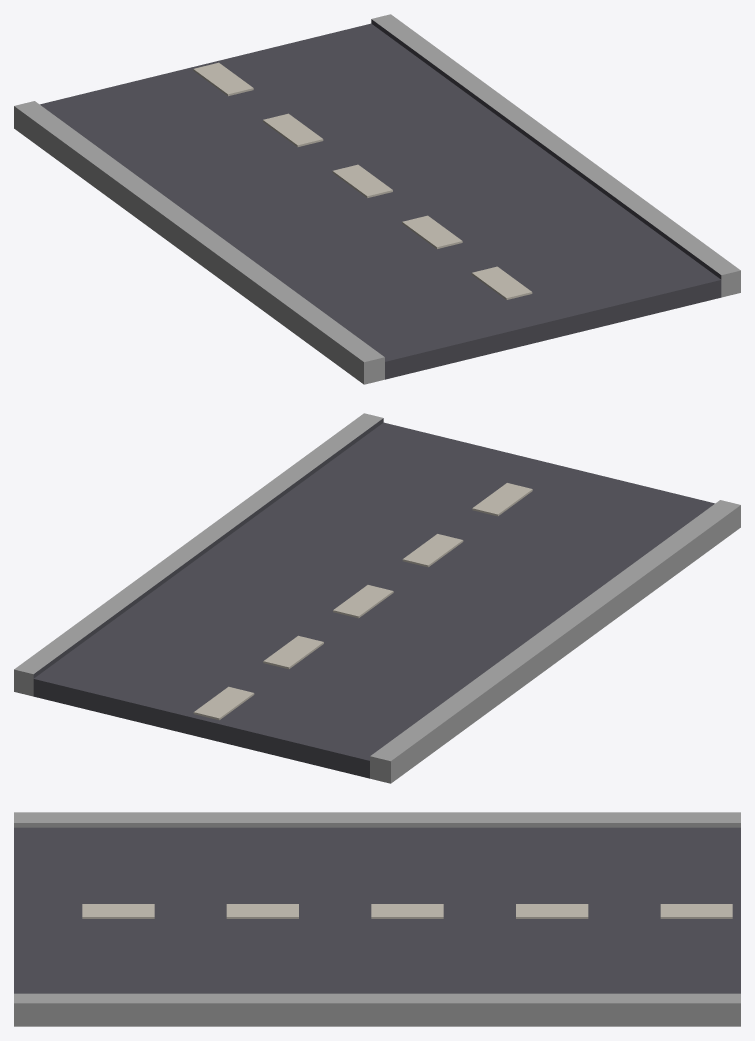
Rendered from Road 2.fbx.
3 renders of one model, top to bottom at view 1: azimuth 30°, elevation 25°; view 2: azimuth 150°, elevation 25°; view 3: azimuth 270°, elevation 25°, orthographic. The views are drawn at different scales.
Visible parts, largest first — view 1: Plane.002; view 2: Plane.002; view 3: Plane.002.
Boxes of the visible parts, x1=… form: Plane.002: x1=14, y1=14, x2=740, y2=384; Plane.002: x1=14, y1=413, x2=740, y2=783; Plane.002: x1=14, y1=812, x2=740, y2=1026.
Bounding box in the file's own units: 887 × 50.66 × 1428.
1 material, 1 textured.
